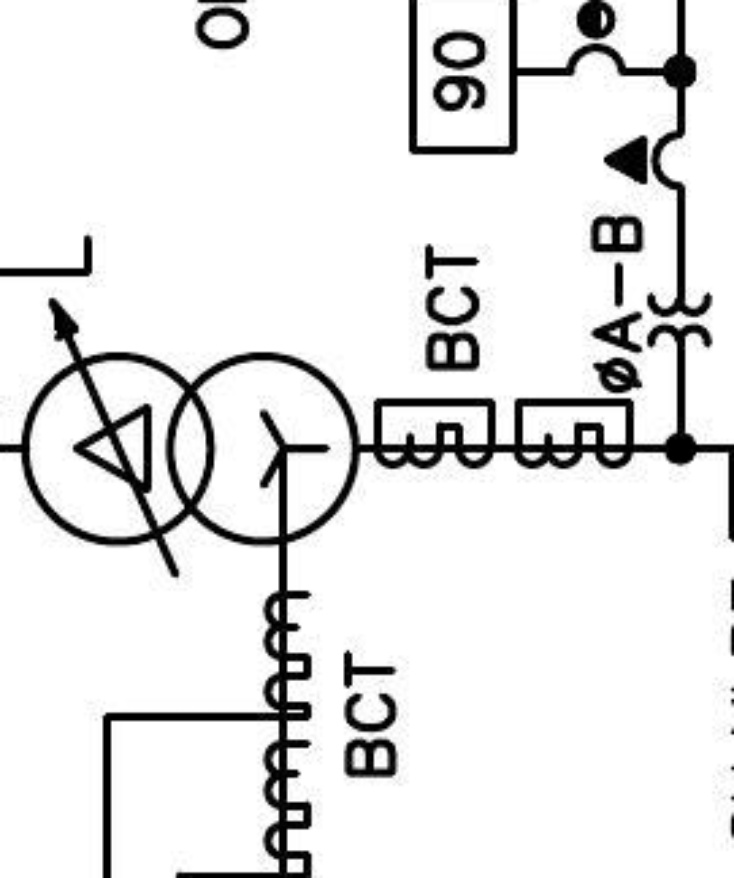11522_tx_dyn1: (20, 350, 362, 548)
